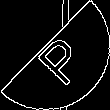P_NW: (24, 24, 86, 86)
